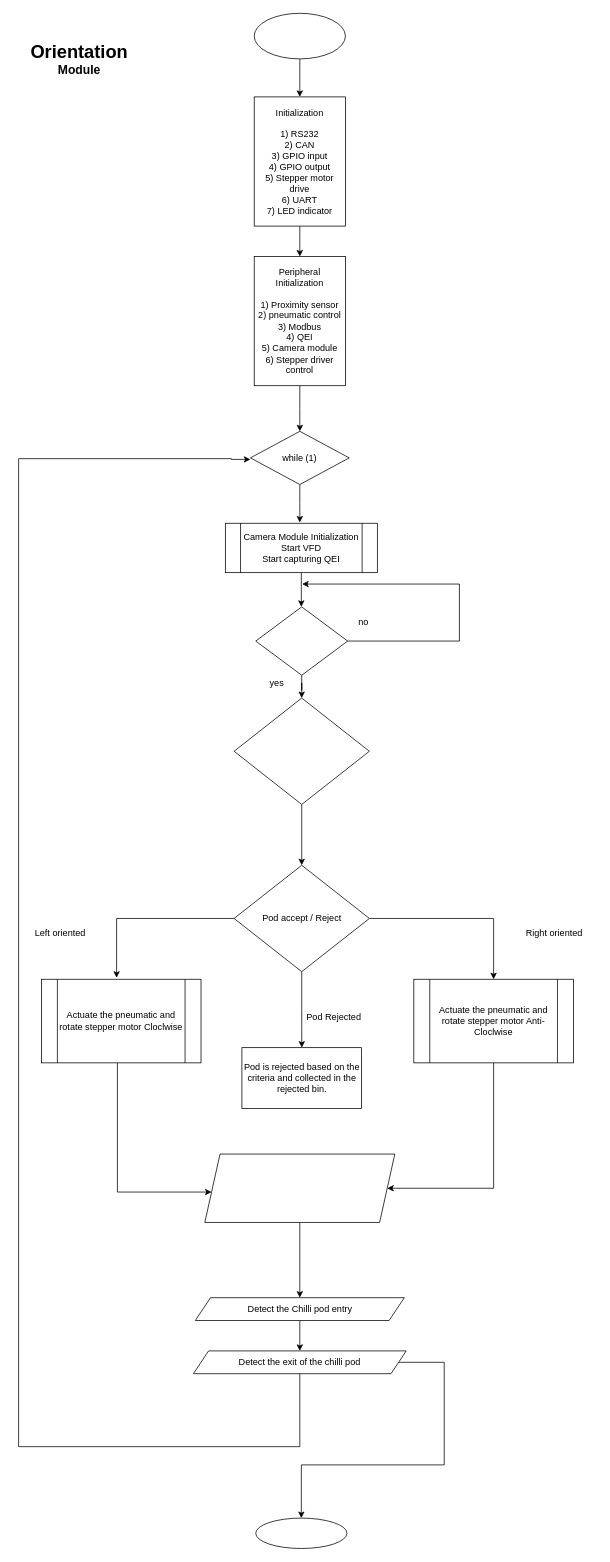
Some shapes in this 610 by 1562 pixel diagram are drawn without their labels. The box of each missing label's shape, as (x1, y1, x2, y2) in pixels:
Channelise the Chilli pod with respect to the pattern as 1-2-3: (204, 1153, 395, 1222)
If Pod detected: (255, 606, 348, 675)
if pod is right oreinted / left oriented: (233, 697, 369, 804)
Start: (253, 13, 345, 59)
Stop: (255, 1517, 347, 1548)
